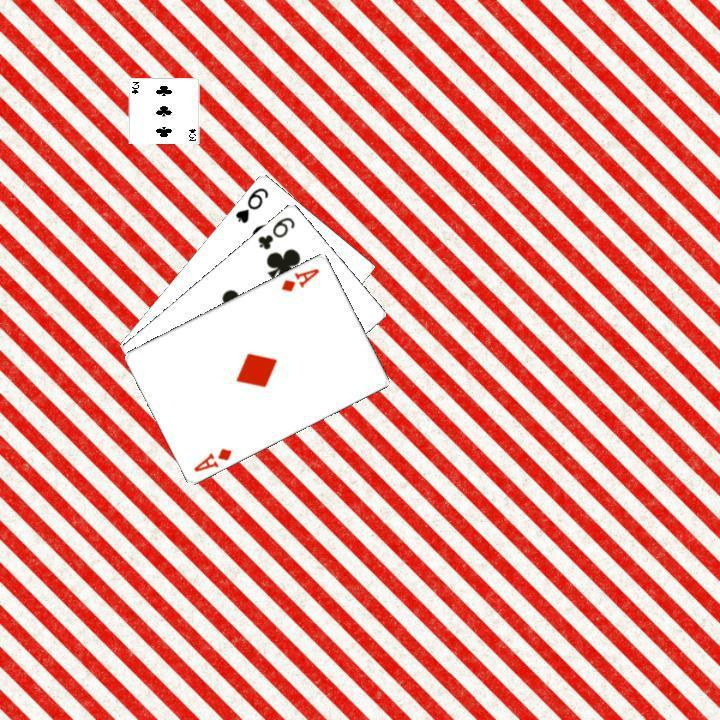6: (253, 212, 297, 251), (231, 183, 271, 225)
A: (189, 443, 234, 474), (277, 263, 322, 293)
